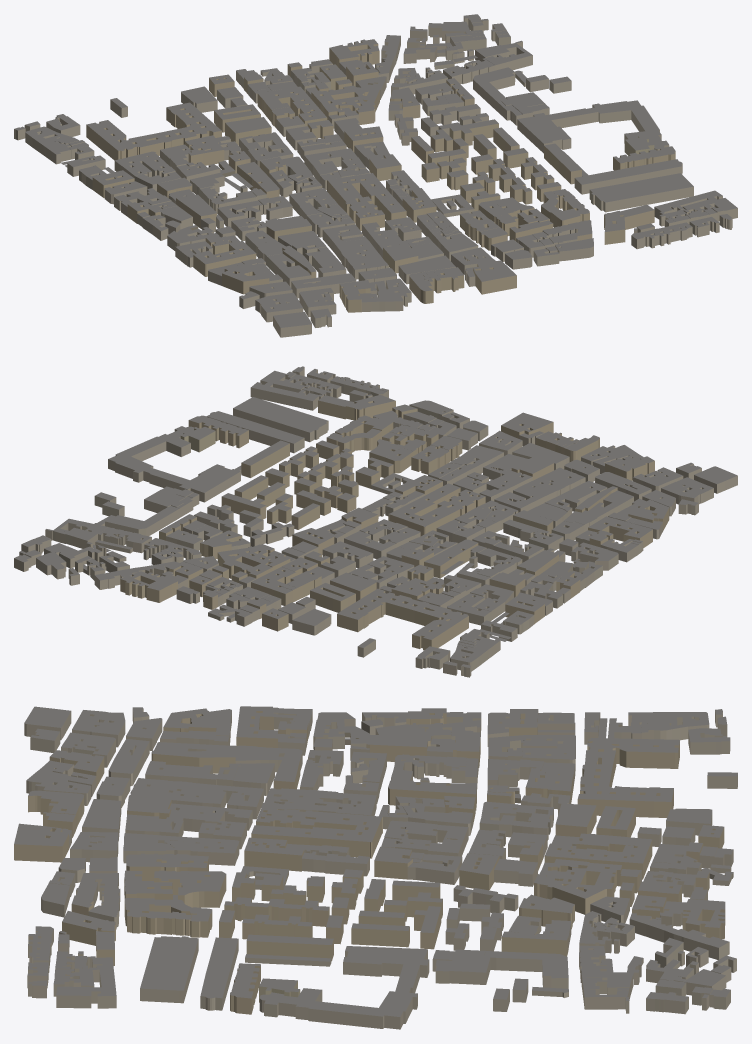
The model's file is buildings.glb.
3 renders of one model, top to bottom at view 1: azimuth 30°, elevation 25°; view 2: azimuth 150°, elevation 25°; view 3: azimuth 270°, elevation 25°, orthographic. The views are drawn at different scales.
Visible parts, largest first — view 1: T_E0_N7_buildings; view 2: T_E0_N7_buildings; view 3: T_E0_N7_buildings.
Boxes of the visible parts, box(x1,y1,x2,y2) form: T_E0_N7_buildings: box(14, 14, 737, 337); T_E0_N7_buildings: box(14, 366, 737, 677); T_E0_N7_buildings: box(14, 706, 737, 1029).
Size of the model in its own units: 534 by 14 by 526.
